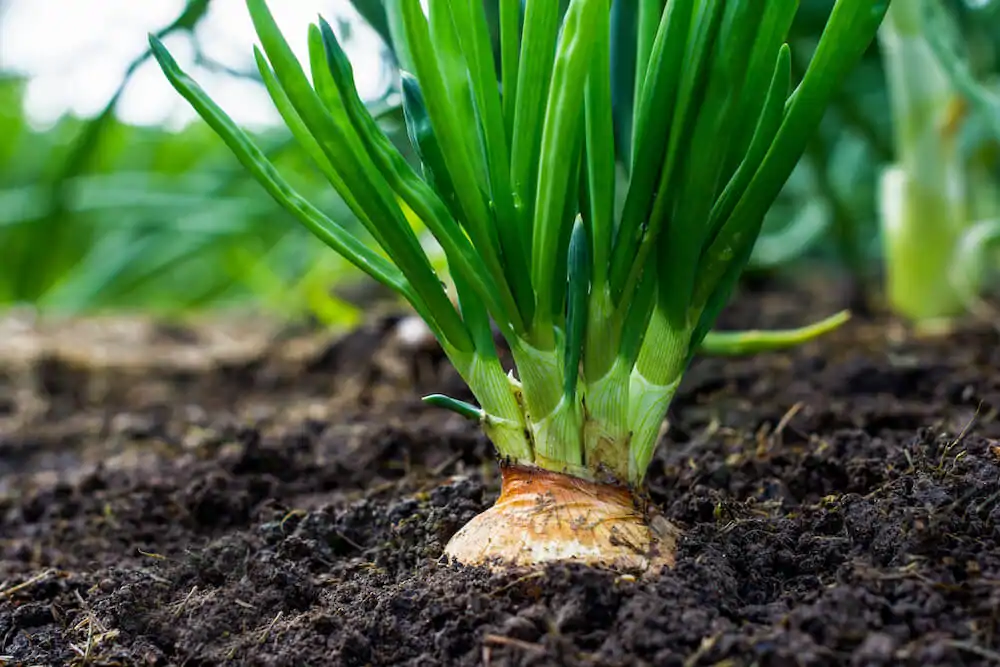onion: (439, 407, 701, 634)
